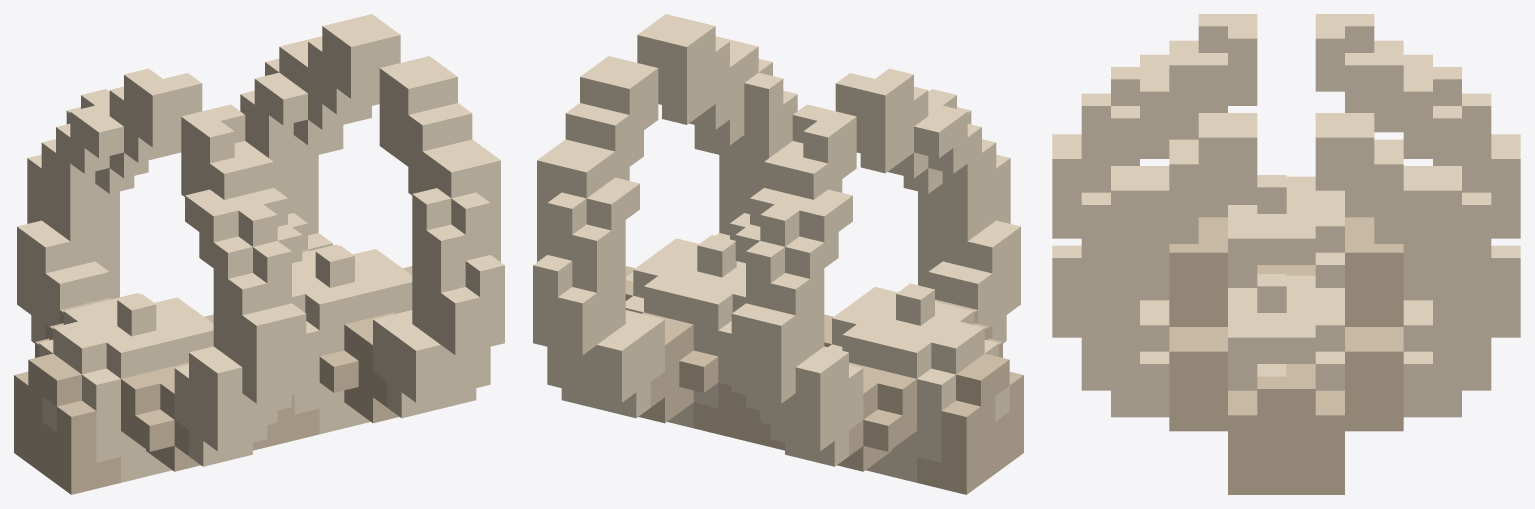
The model's file is excavated_rib.glb.
3 views of the same model, side by side, from view 1: azimuth 30°, elevation 25°; view 2: azimuth 150°, elevation 25°; view 3: azimuth 270°, elevation 25° (orthographic). The views are drawn at different scales.
Bounding box in the file's own units: 1 × 0.8125 × 1.
